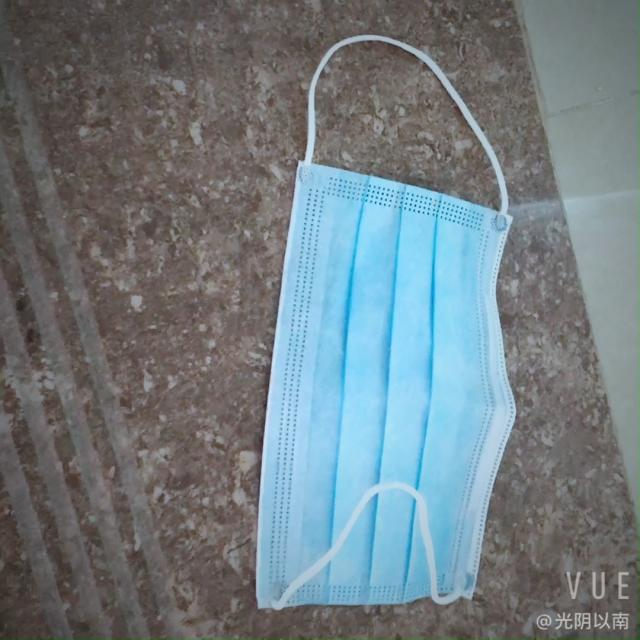non-organic waste: (242, 166, 520, 615)
